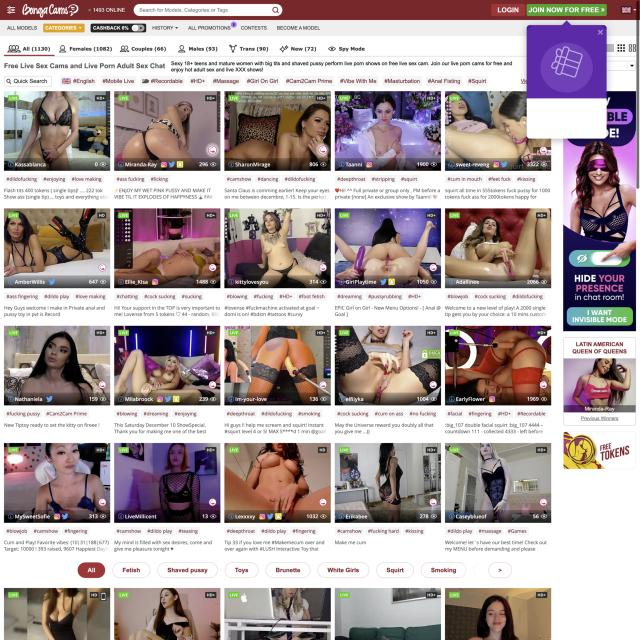CheckBox: (527, 4, 607, 16), (90, 23, 146, 32), (491, 4, 525, 16)
CheckedTextView: (114, 90, 221, 170), (133, 4, 283, 16), (4, 76, 52, 86)
ImageView: (563, 337, 637, 425), (563, 431, 636, 469)
Input field: (171, 60, 513, 73)
RadioButton: (95, 95, 107, 102), (118, 95, 130, 101), (8, 95, 19, 101)
alert: (44, 23, 84, 33), (151, 24, 179, 31), (620, 6, 636, 14)
carousel: (595, 28, 605, 36), (6, 6, 16, 14), (272, 6, 280, 14), (5, 78, 12, 85), (601, 8, 605, 12)
data feed: (529, 5, 599, 15), (13, 78, 48, 84), (496, 6, 520, 13)
date picker: (21, 3, 80, 17)
decoration: (6, 21, 322, 33)
footer: (139, 6, 229, 14)
icon: (2, 44, 372, 58)
label: (527, 20, 607, 138)
